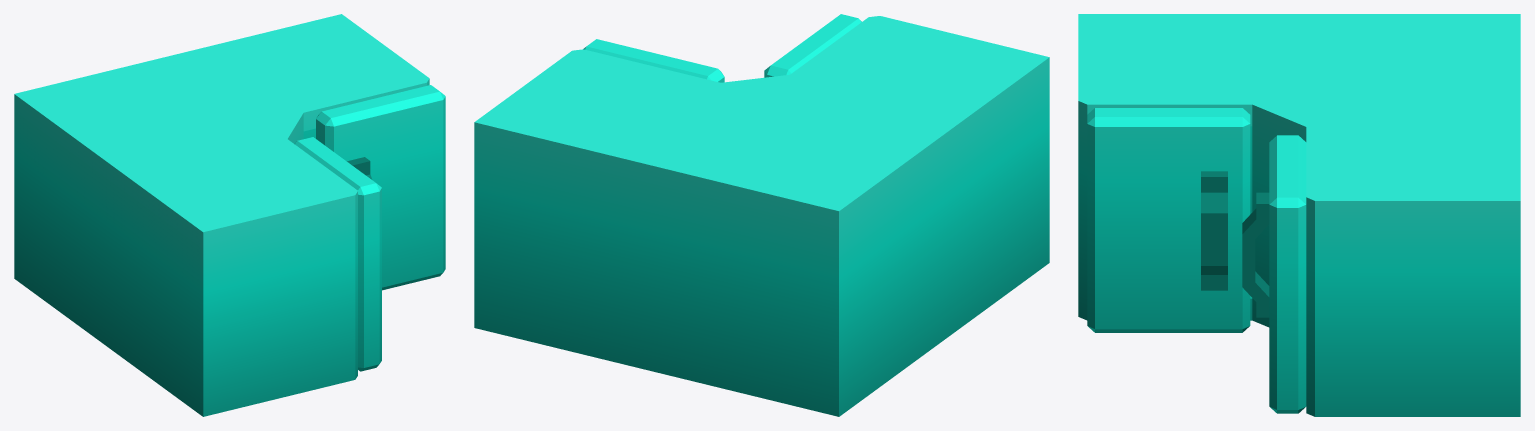
The model's file is Cabinet_01_Corner_C05.fbx.
The picture shows the model from 3 angles, left to right: view 1: azimuth 30°, elevation 25°; view 2: azimuth 150°, elevation 25°; view 3: azimuth 270°, elevation 25°; orthographic projection. The views are drawn at different scales.
Parts seen in each view (by area): view 1: Cabinet_01_Corner_C05, Cabinet_01_Corner_C05_Door_L, Cabinet_01_Corner_C05_Door_R; view 2: Cabinet_01_Corner_C05, Cabinet_01_Corner_C05_Door_R, Cabinet_01_Corner_C05_Door_L; view 3: Cabinet_01_Corner_C05, Cabinet_01_Corner_C05_Door_R, Cabinet_01_Corner_C05_Door_L.
Boxes of the visible parts, bbox=[...] form: Cabinet_01_Corner_C05: bbox=[14, 14, 429, 416]; Cabinet_01_Corner_C05_Door_L: bbox=[316, 85, 445, 290]; Cabinet_01_Corner_C05_Door_R: bbox=[294, 137, 381, 371]; Cabinet_01_Corner_C05: bbox=[474, 16, 1049, 416]; Cabinet_01_Corner_C05_Door_R: bbox=[764, 14, 861, 77]; Cabinet_01_Corner_C05_Door_L: bbox=[583, 39, 724, 82]; Cabinet_01_Corner_C05: bbox=[1078, 14, 1520, 416]; Cabinet_01_Corner_C05_Door_R: bbox=[1087, 108, 1250, 332]; Cabinet_01_Corner_C05_Door_L: bbox=[1242, 135, 1306, 413].
Size of the model in its own units: 100 by 53.91 by 100.
